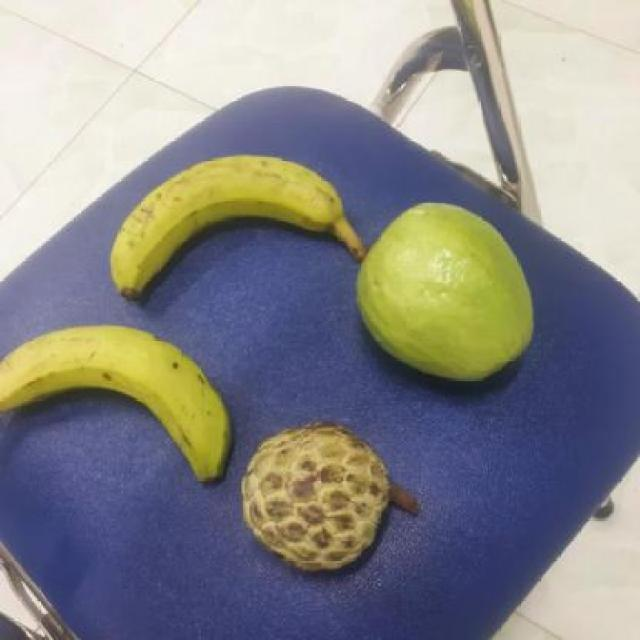banana: (112, 154, 374, 301), (7, 327, 238, 475)
guava: (354, 200, 540, 382)
sugar apple: (245, 420, 404, 578)
